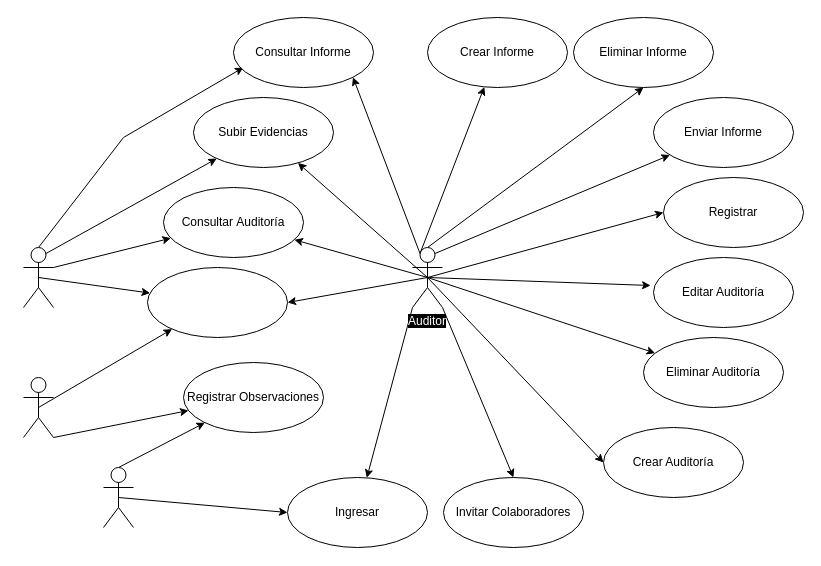
This 821x566 diagram has some shape labels left out. The shapes that lost their labels are listed below. From the top down, each one's centre as x and y in pixels, then its label:
At pixel 38 277: "Auditor Invitado".
At pixel 217 302: "Editar Informe".
At pixel 38 407: "Google Sheets API".
At pixel 118 497: "Auditado".
